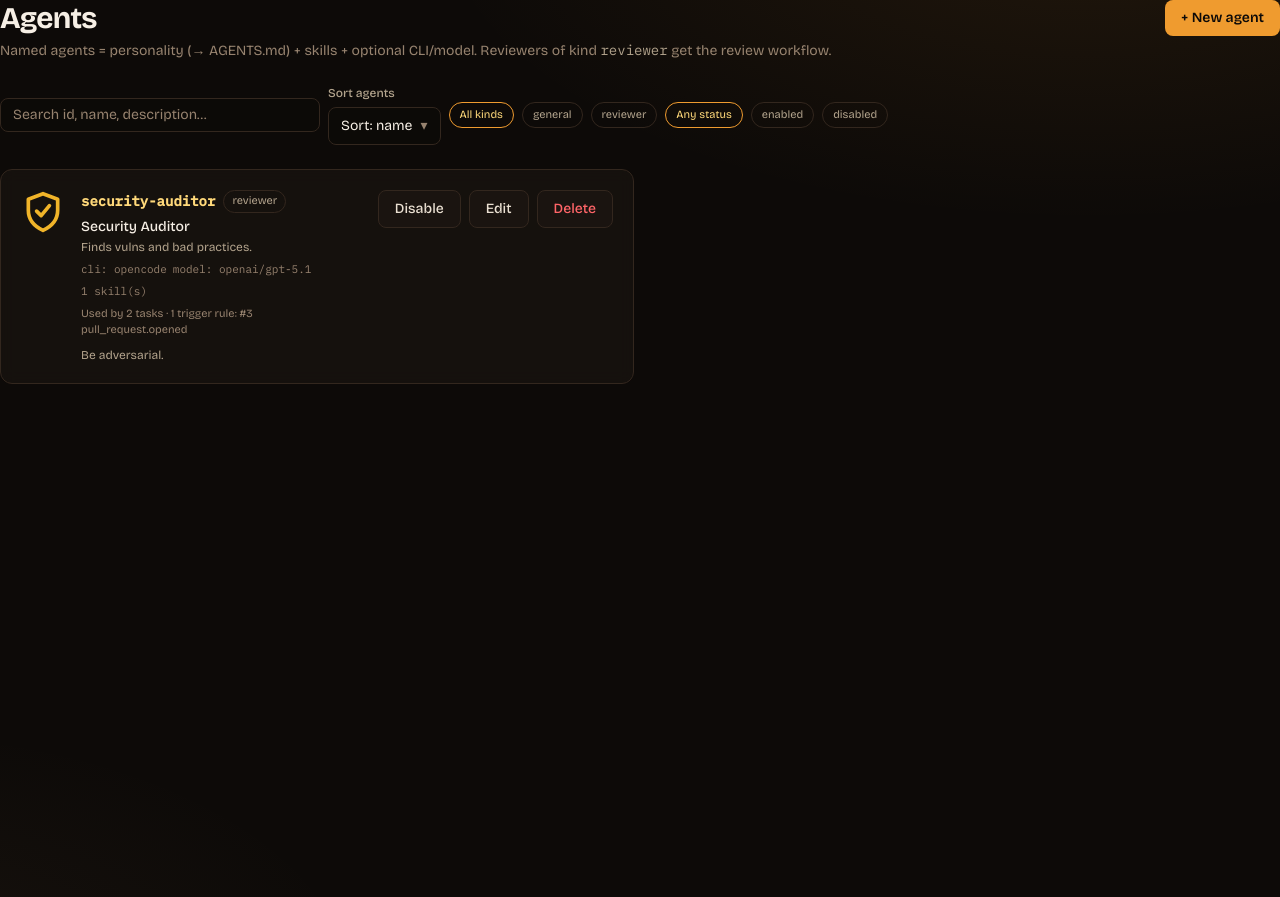
Scenario: Agents › model pin is a dropdown of models from /api/models, empty clears it
Expected: the text "security-auditor" is shown, [81,191,215,211]
Step 1. Click the button "+ New agent" → {"x": 1223, "y": 18}, box [1165,0,1279,36]
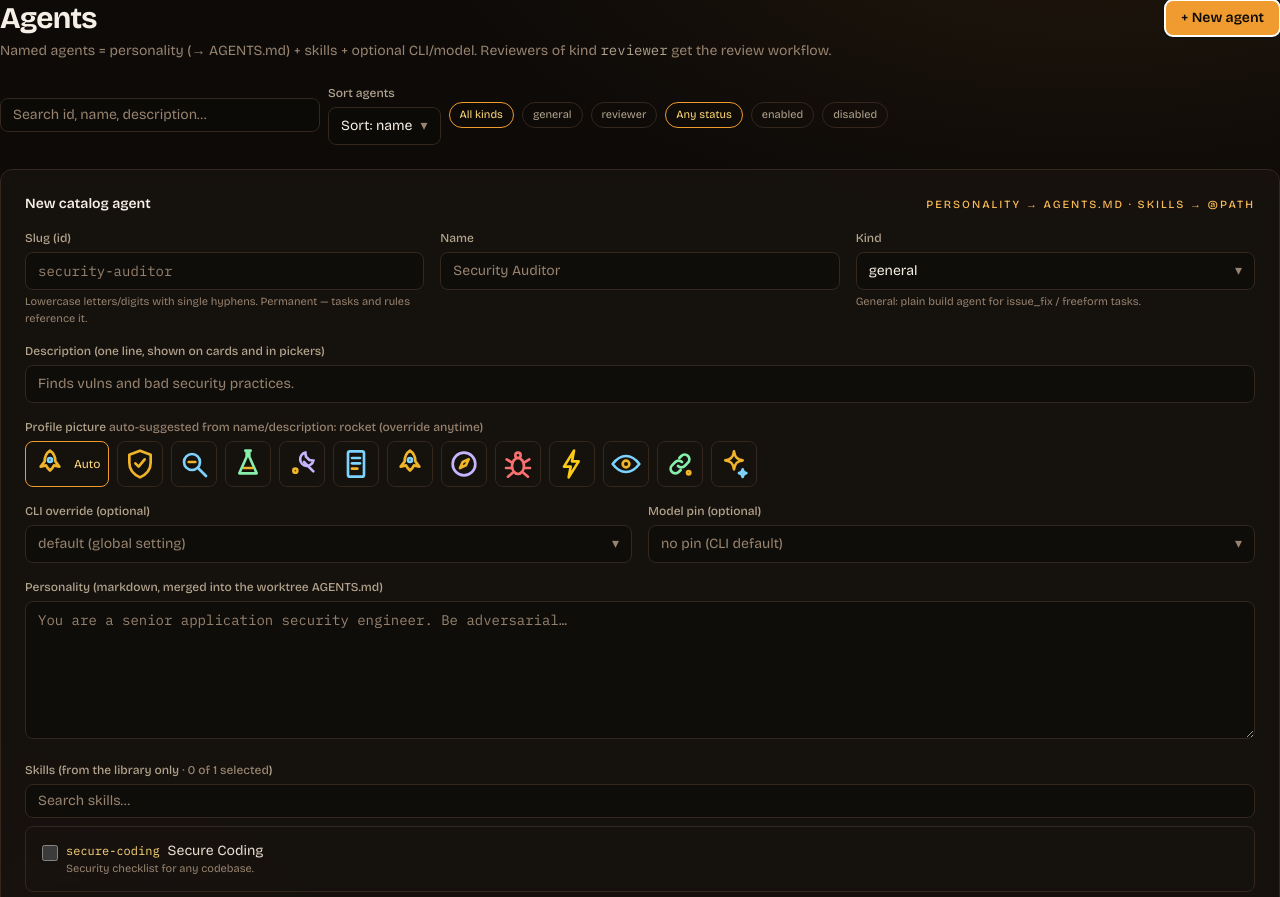
Step 2. Click the button with aria-label "Model pin (optional)" → {"x": 722, "y": 544}, box [648,525,1255,563]
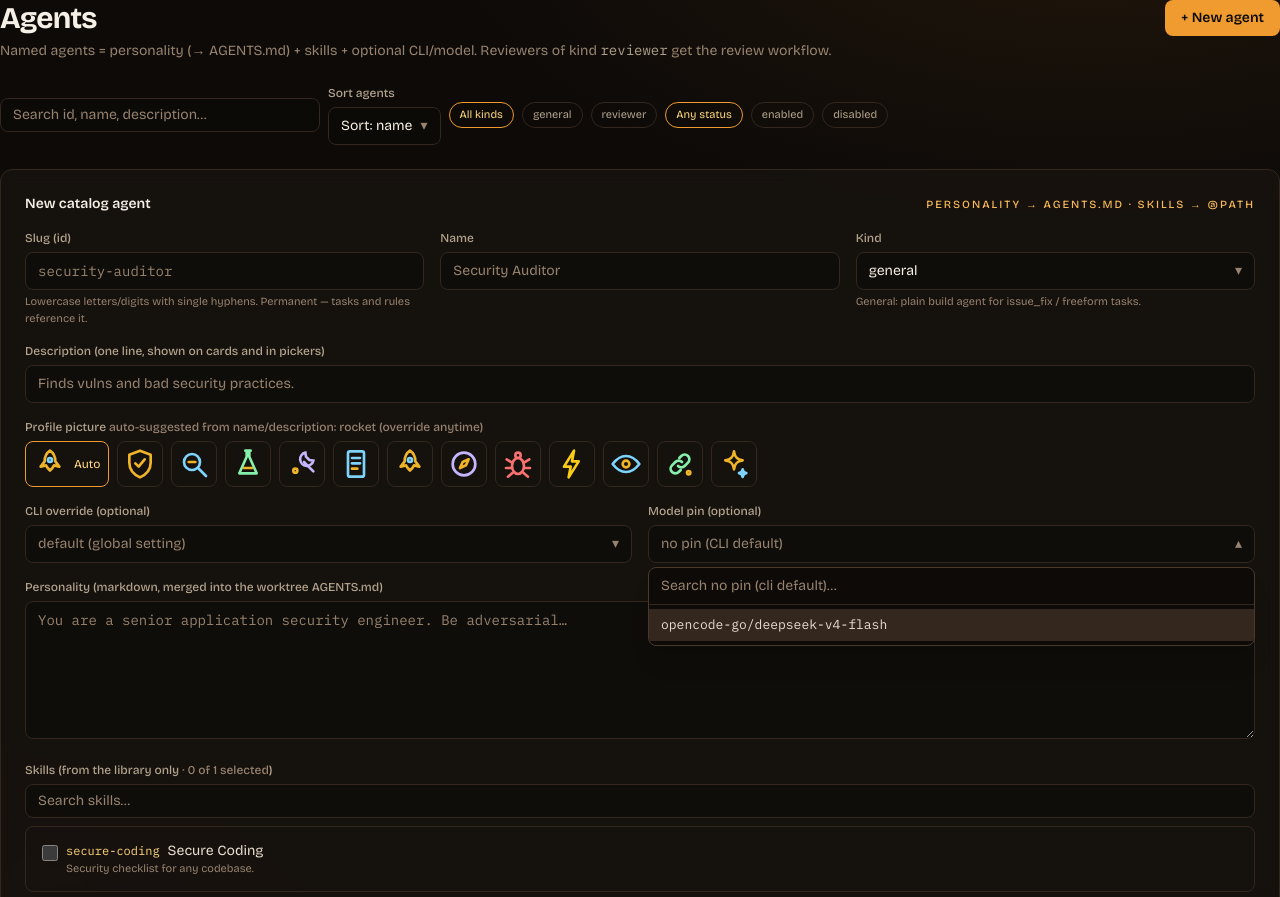
Expected: the text "no pin (CLI default)" is shown, [661,534,783,554]
Expected: the option "opencode-go/deepseek-v4-flash" is shown
Step 3. Click the option "opencode-go/deepseek-v4-flash" → {"x": 774, "y": 624}, box [649,609,1254,640]
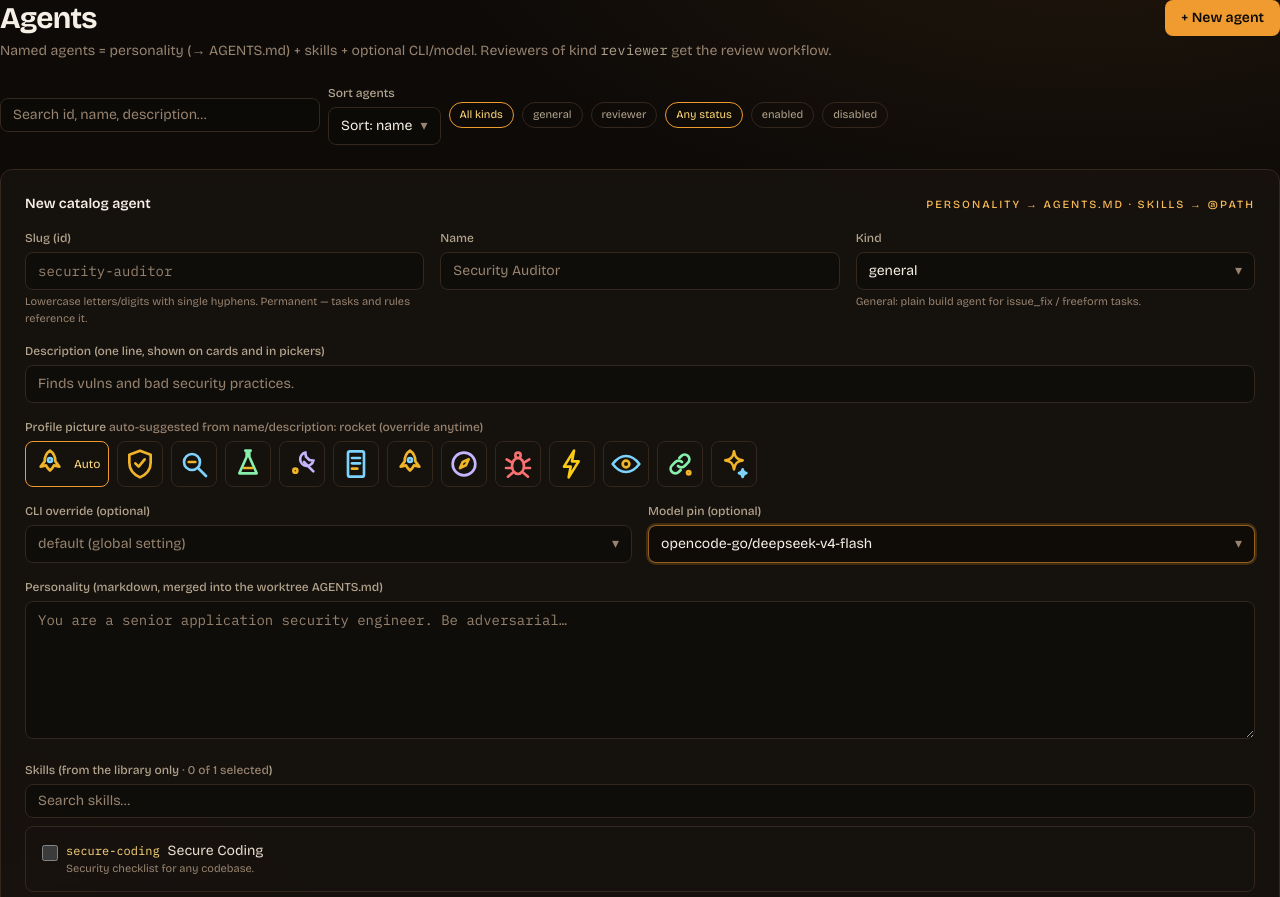
Expected: the button with aria-label "Model pin (optional)" shows "opencode-go/deepseek-v4-flash"
Step 4. Click the button with aria-label "Model pin (optional)" → {"x": 767, "y": 544}, box [648,525,1255,563]
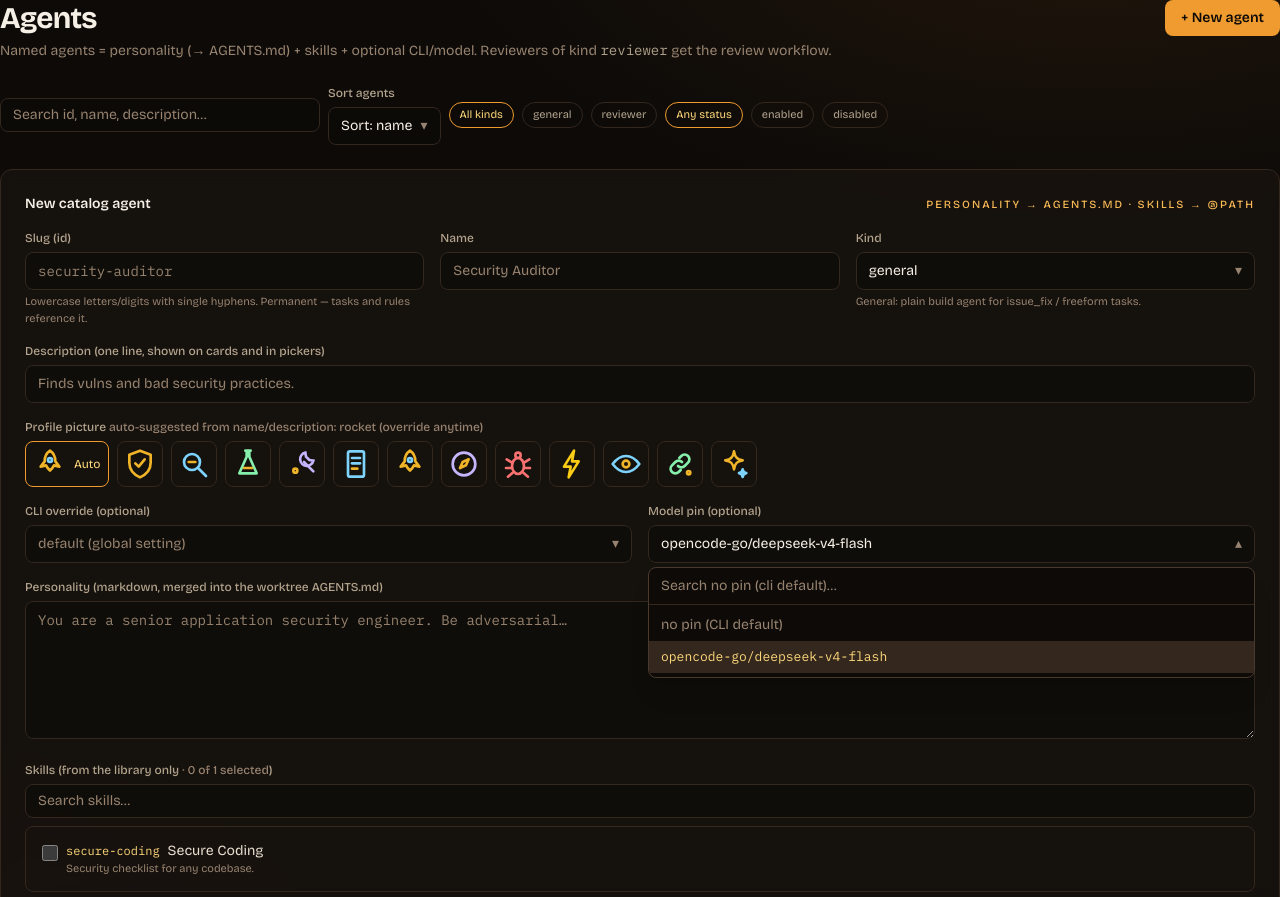
Step 5. Click the option "no pin (CLI default)" → {"x": 722, "y": 624}, box [661,616,783,633]
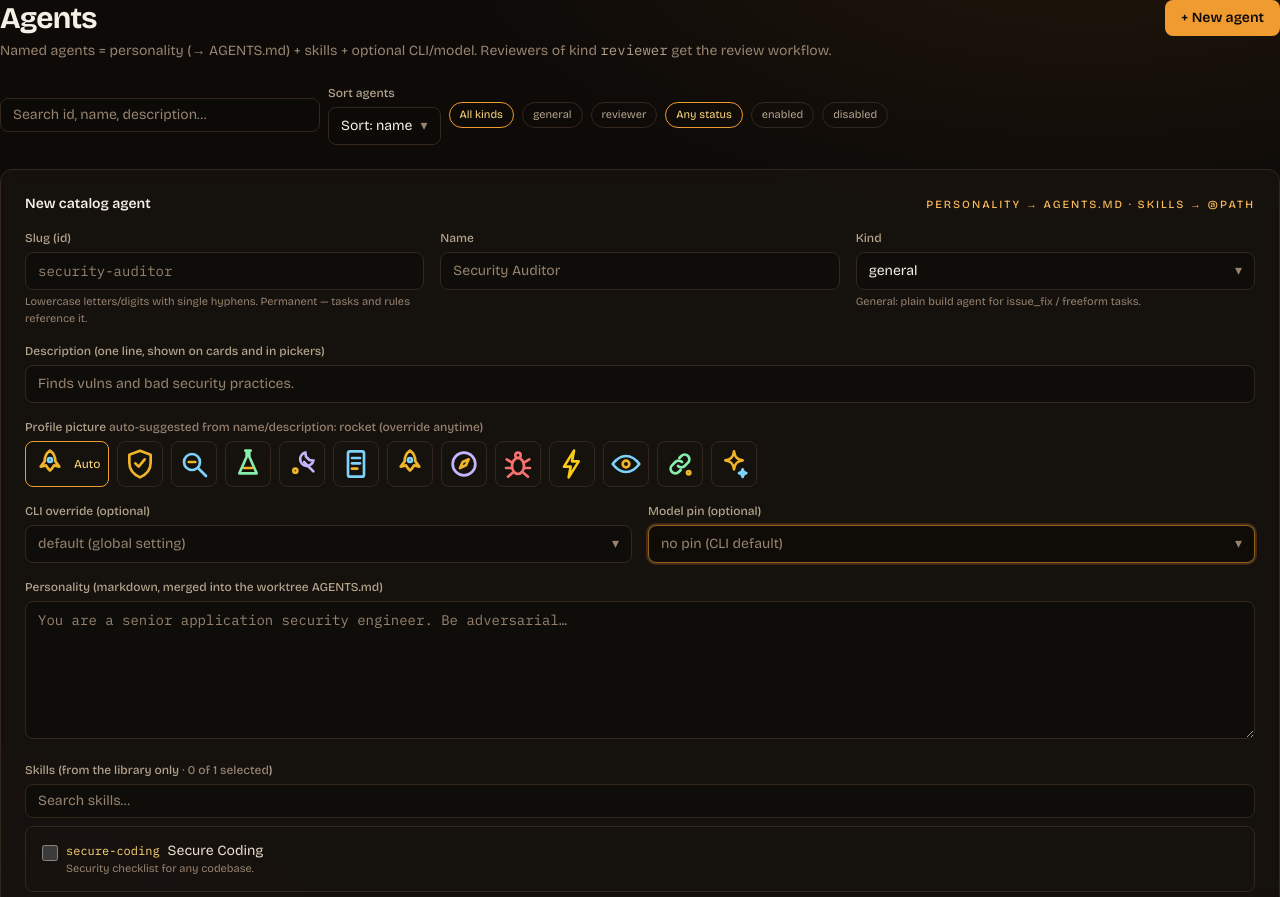
Expected: the button with aria-label "Model pin (optional)" shows "no pin (CLI default)", [648,525,1255,563]
